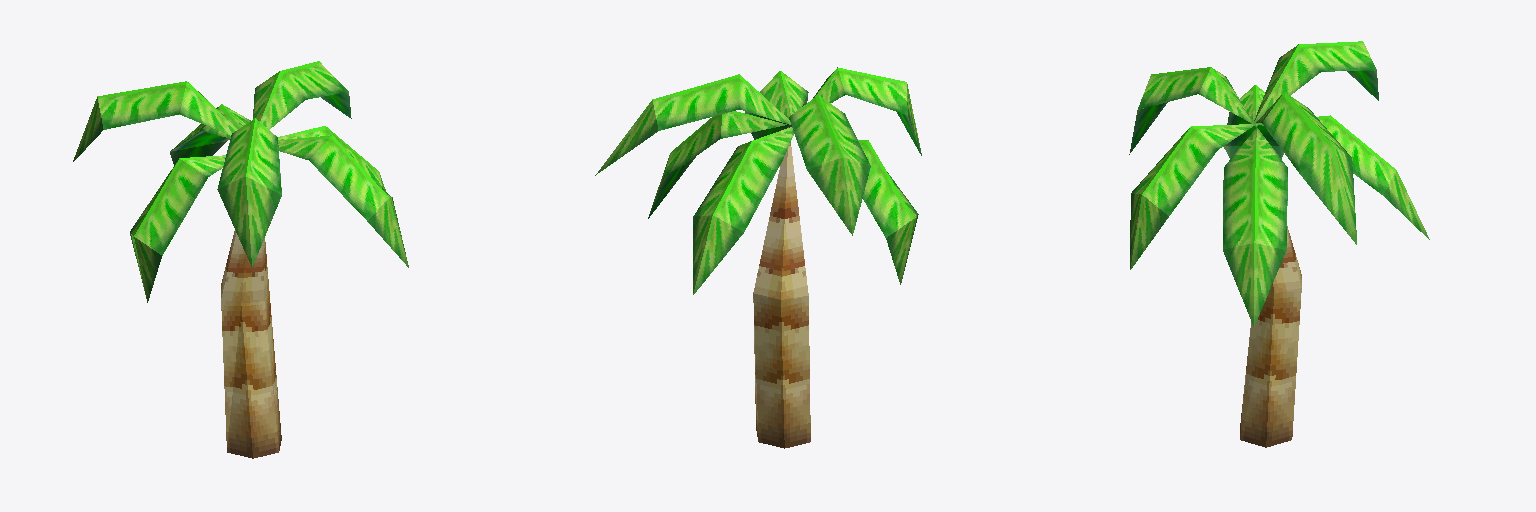
3 views of the same model, side by side, from view 1: azimuth 30°, elevation 25°; view 2: azimuth 150°, elevation 25°; view 3: azimuth 270°, elevation 25° (orthographic).
Parts seen in each view (by area): view 1: polygon0; view 2: polygon0; view 3: polygon0.
Part boxes in pixels (x1,y1,x2,y2): polygon0: (73,61,408,458); polygon0: (595,67,921,448); polygon0: (1129,41,1429,447).
Bounding box in the file's own units: 2.05 × 2.66 × 1.99.
Materials: 1 (1 with a texture image).